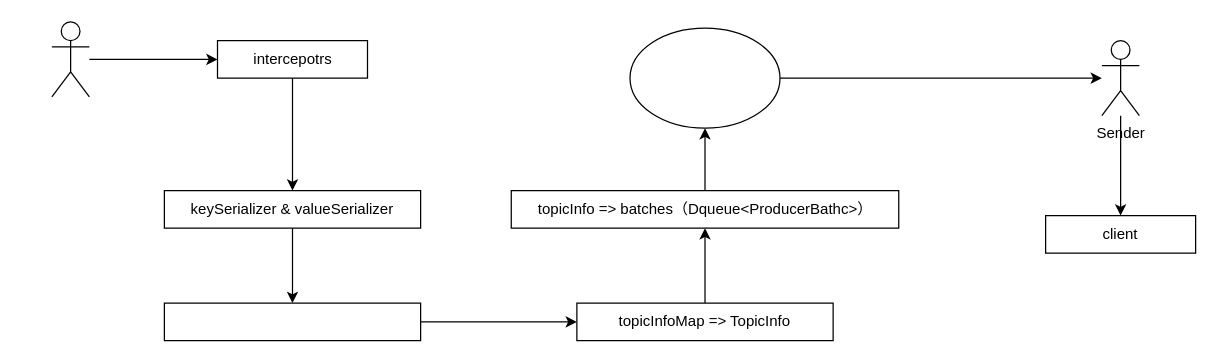
The diagram is 1218 pixels wide and 363 high, and some of its shapes have lost their labels. Here are the shapes that lost their labels. From the top down, the centre of each, then its label:
At [70,59]: "KafkaProducer".
At [704,77]: "RecordAccumelator".
At [292,321]: "partitioner".
